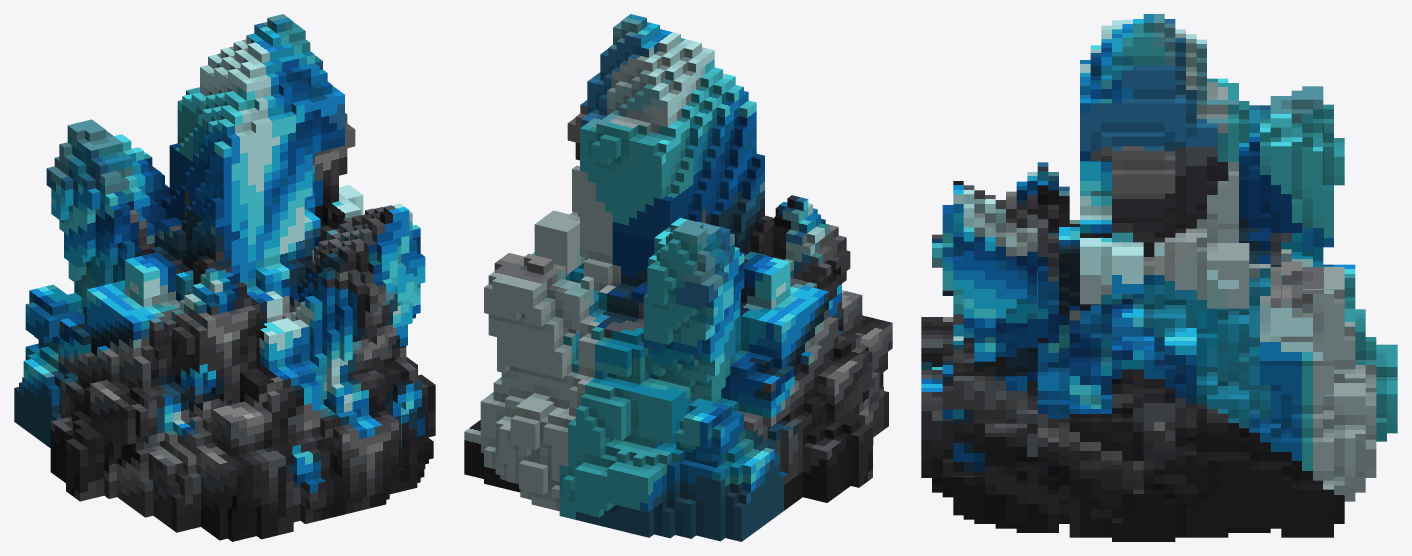
The model's file is mine-crystal.glb.
3 renders of one model, left to right at view 1: azimuth 30°, elevation 25°; view 2: azimuth 150°, elevation 25°; view 3: azimuth 270°, elevation 25°, orthographic. The views are drawn at different scales.
Parts seen in each view (by area): view 1: mine-crystal_voxels; view 2: mine-crystal_voxels; view 3: mine-crystal_voxels.
Boxes of the visible parts, left/top/right/bottom form: mine-crystal_voxels: left=14, top=14, right=435, bottom=541; mine-crystal_voxels: left=464, top=14, right=892, bottom=541; mine-crystal_voxels: left=921, top=14, right=1397, bottom=541.
Bounding box in the file's own units: 0.8163 × 1 × 0.9184.
Materials: 1 (1 with a texture image).
